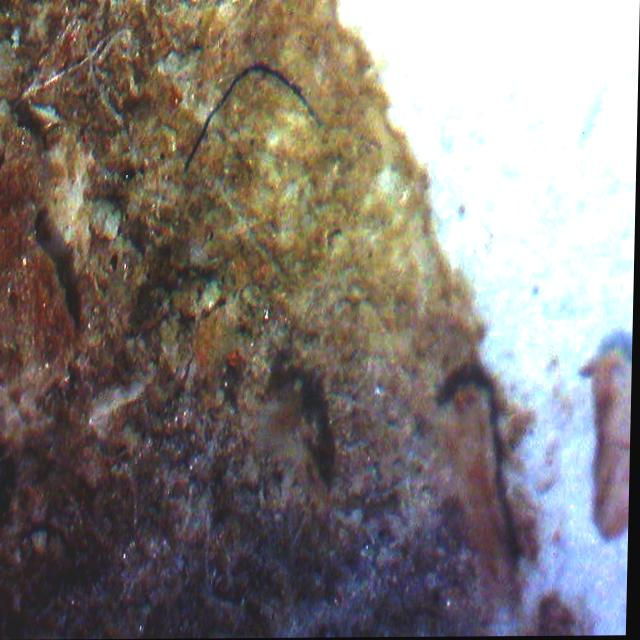microplastic: (163, 51, 329, 172)
